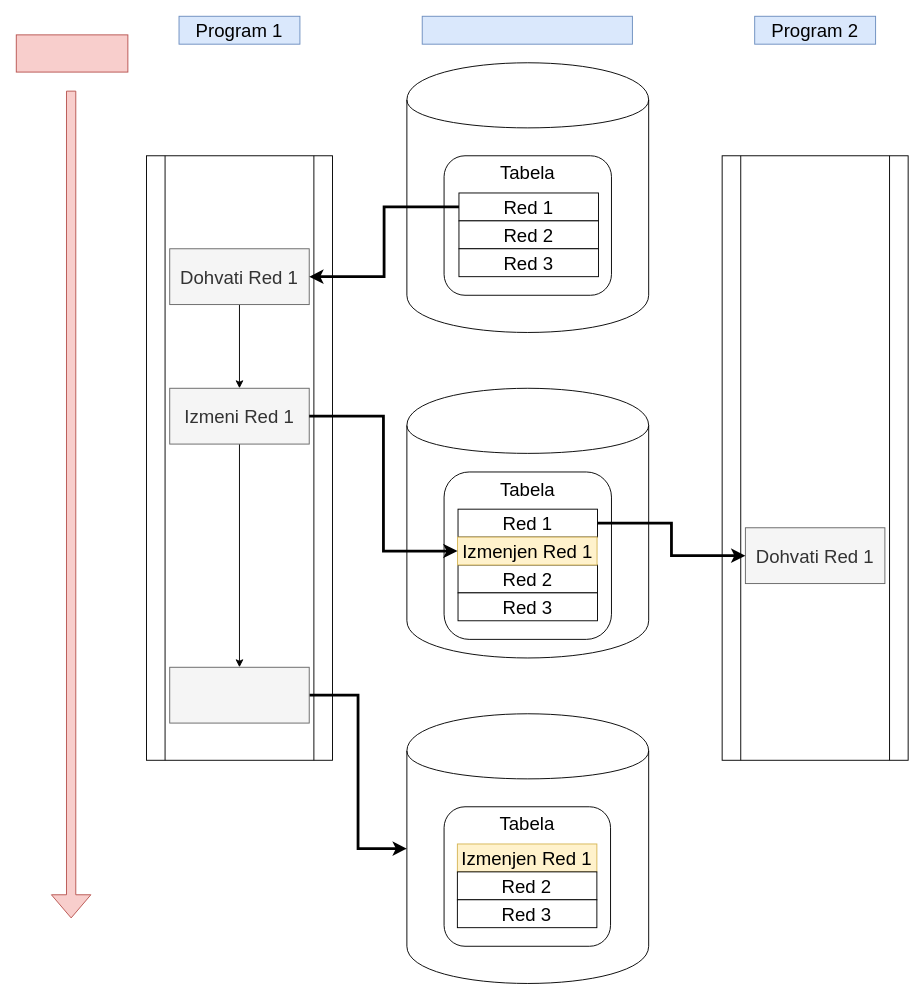
The diagram is 924 pixels wide and 1000 high, and some of its shapes have lost their labels. The centre of each missing label's shape, as x and y in pixels:
"POTVRDI IZMENE" belongs at pixel 239 694.
"Stanje baze podataka" belongs at pixel 526 29.
"VREME" belongs at pixel 71 53.
